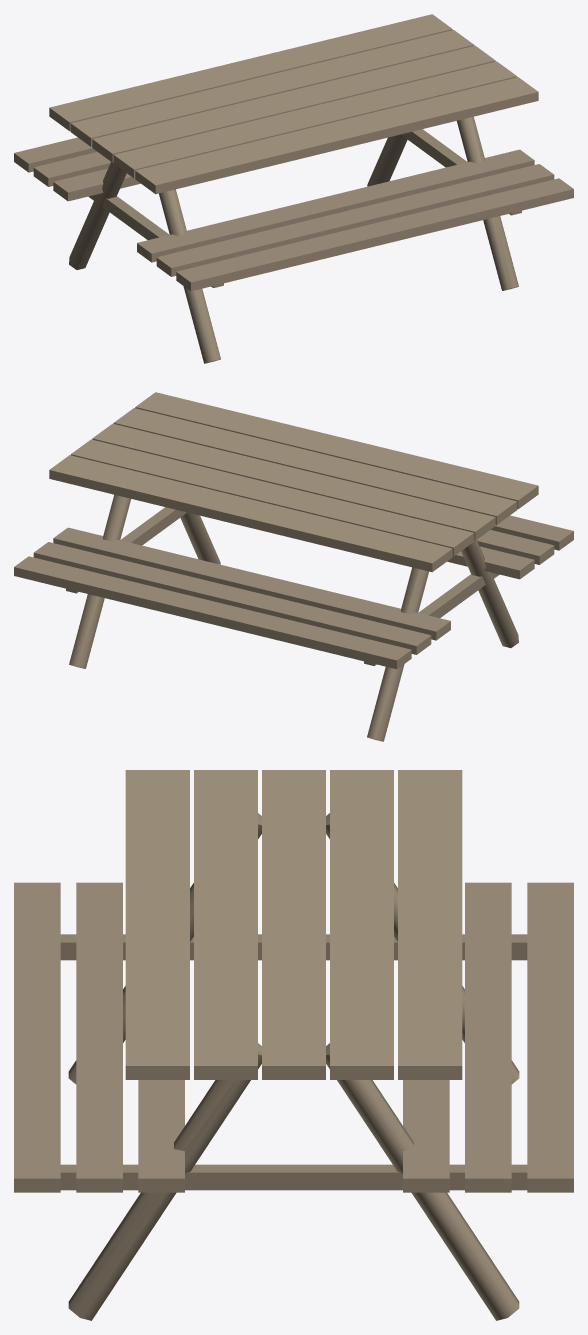
The model's file is festival_picnic_table_a.glb.
The picture shows the model from 3 angles, top to bottom: view 1: azimuth 30°, elevation 25°; view 2: azimuth 150°, elevation 25°; view 3: azimuth 270°, elevation 25°; orthographic projection. The views are drawn at different scales.
Visible parts, largest first — view 1: body; view 2: body; view 3: body.
Part boxes in pixels (<box>): body: <box>14,14,573,363</box>; body: <box>14,392,573,741</box>; body: <box>14,770,573,1320</box>.
Size of what is drawn, in the model's own units: 1.8 by 0.8078 by 1.44.
